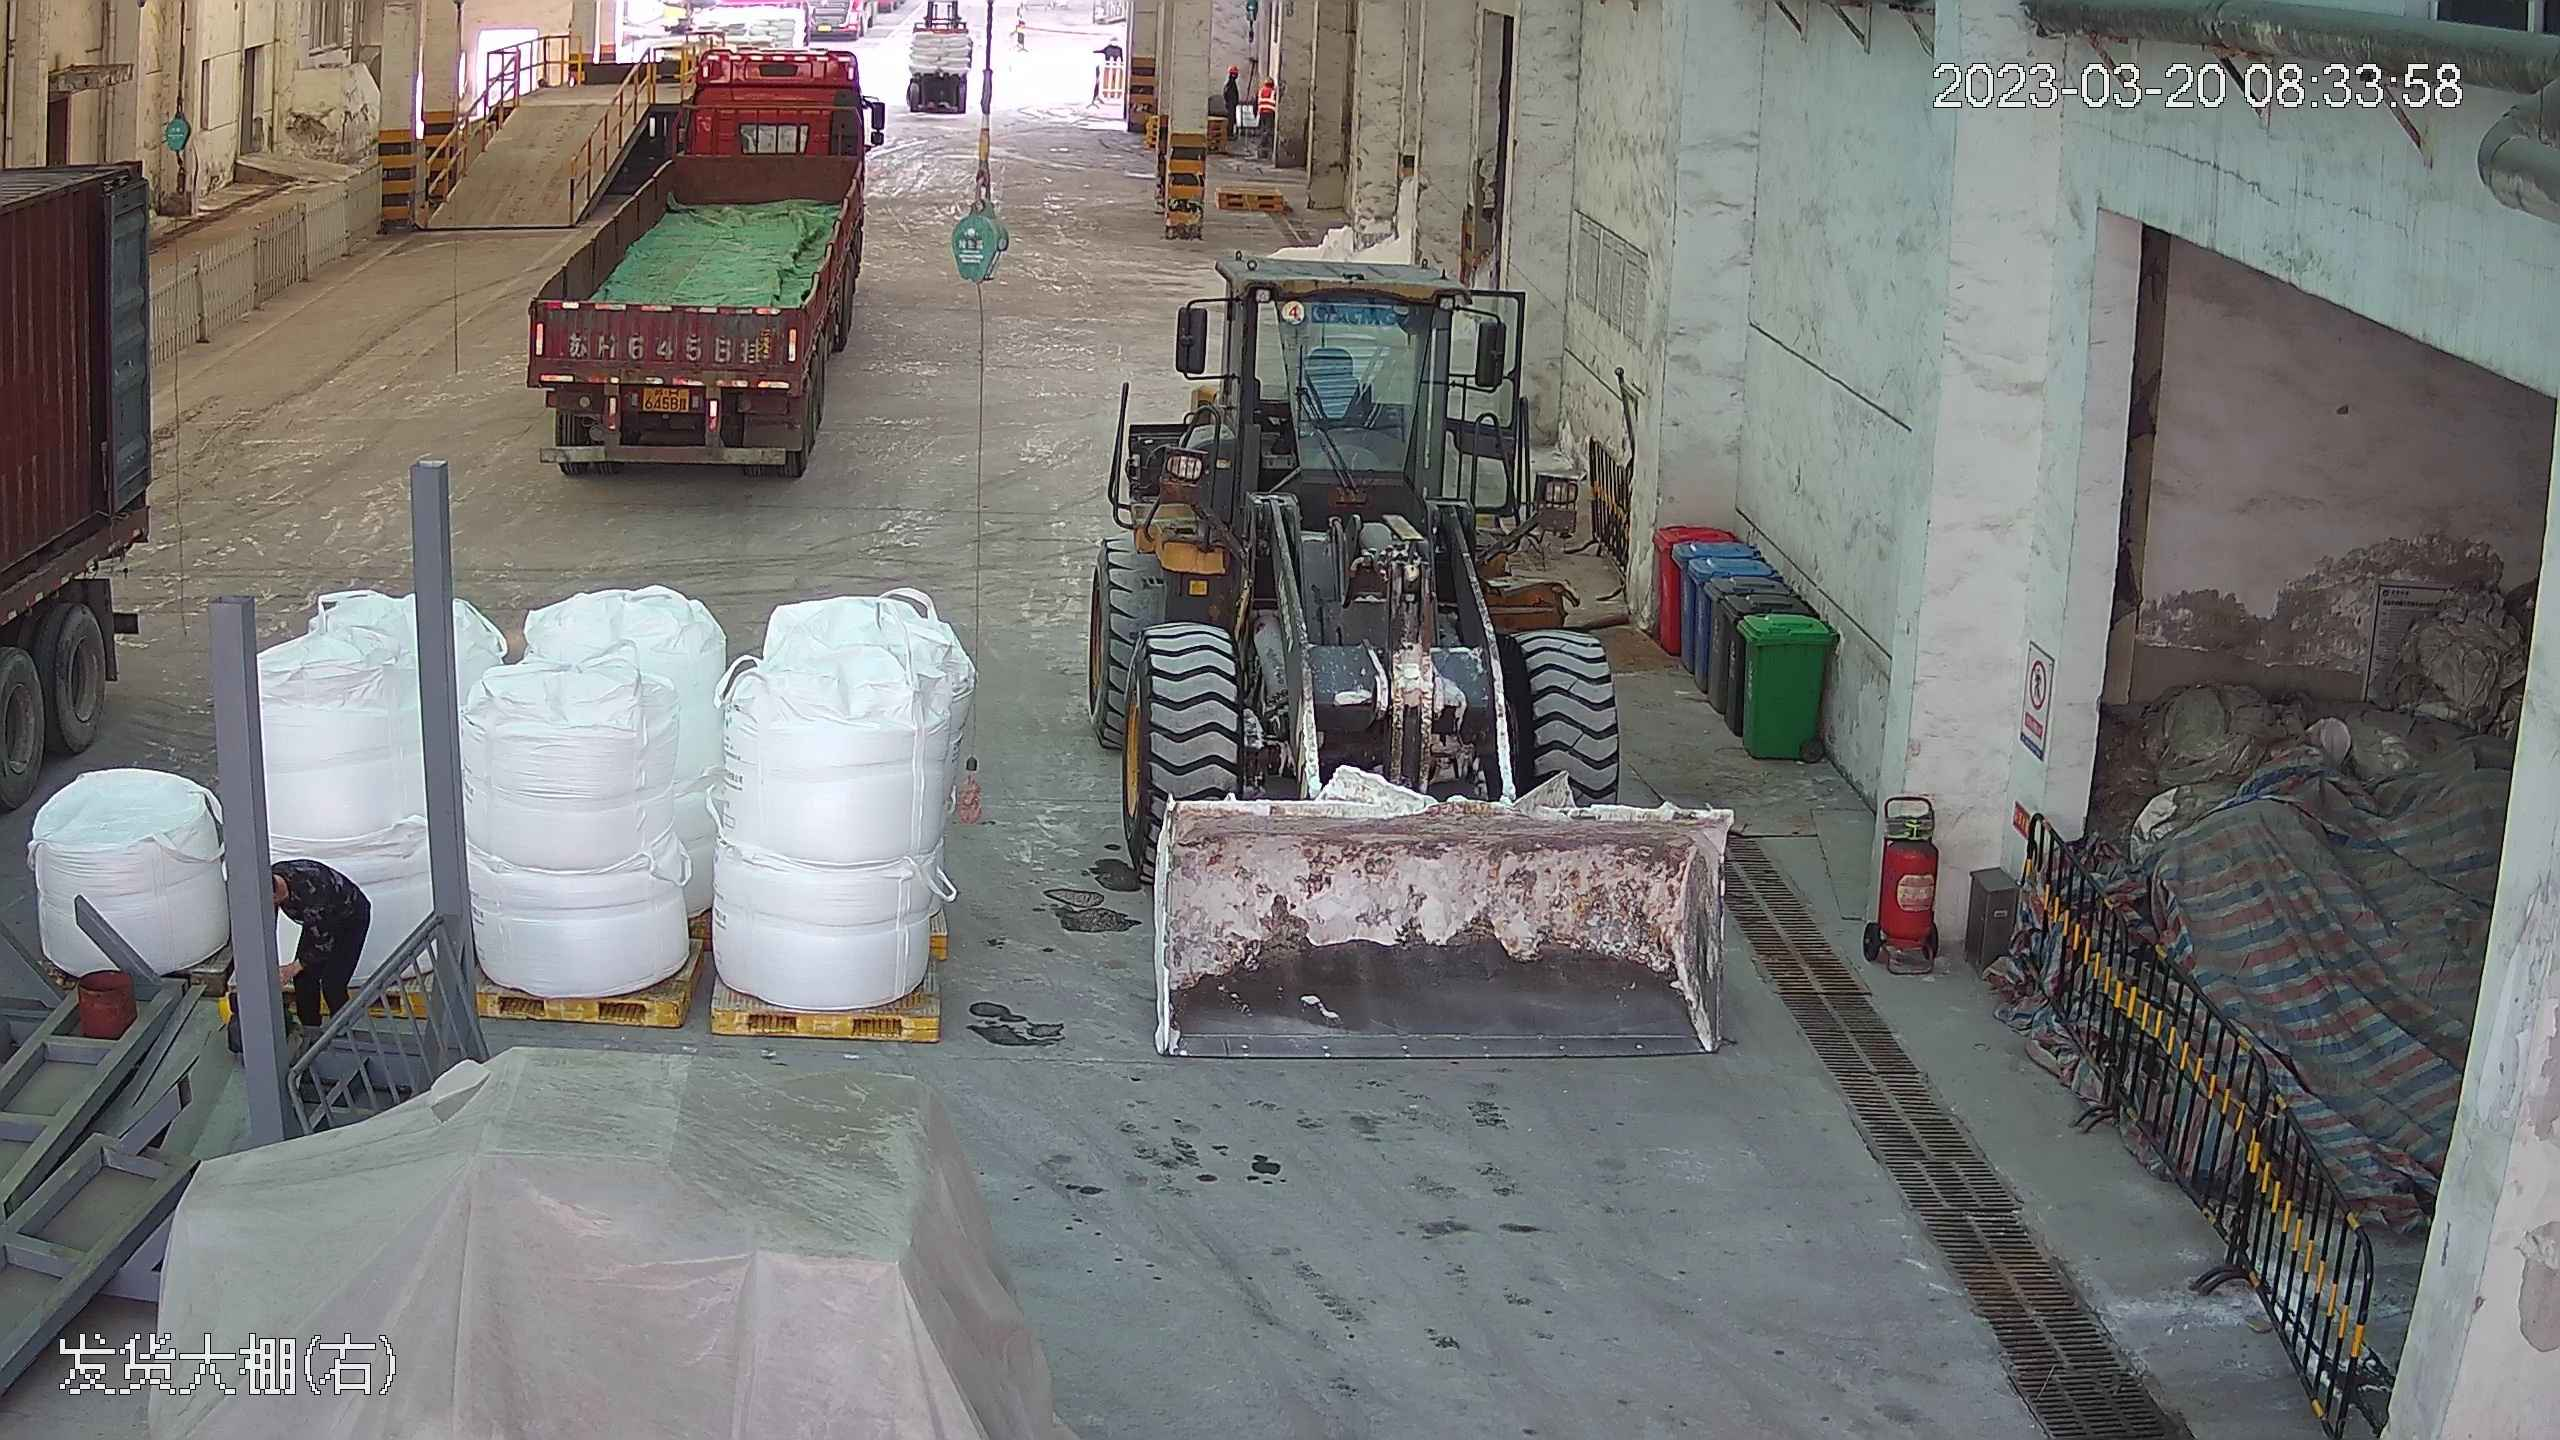head: (1221, 63, 1240, 90), (1258, 76, 1278, 98)
helmet: (1226, 64, 1238, 73), (1263, 77, 1273, 83)
people: (276, 854, 367, 1027), (1254, 77, 1282, 158), (1214, 61, 1241, 132)
truck: (512, 23, 876, 483), (1, 10, 184, 849)
